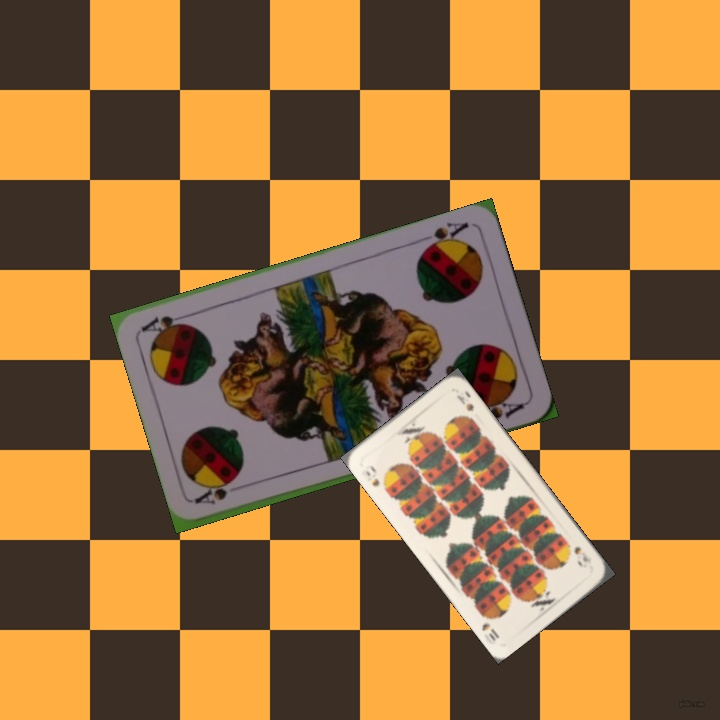S10: (570, 542, 594, 566), (362, 461, 382, 489)
SA: (419, 218, 471, 254), (191, 480, 233, 507)
